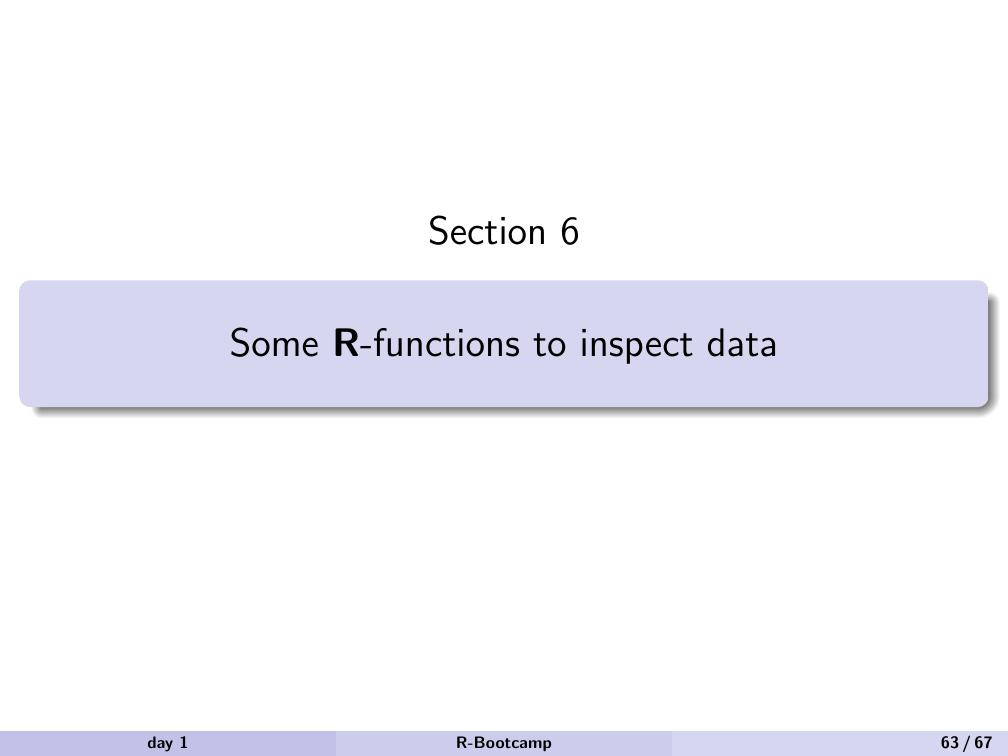Title: (220, 318, 780, 376)
